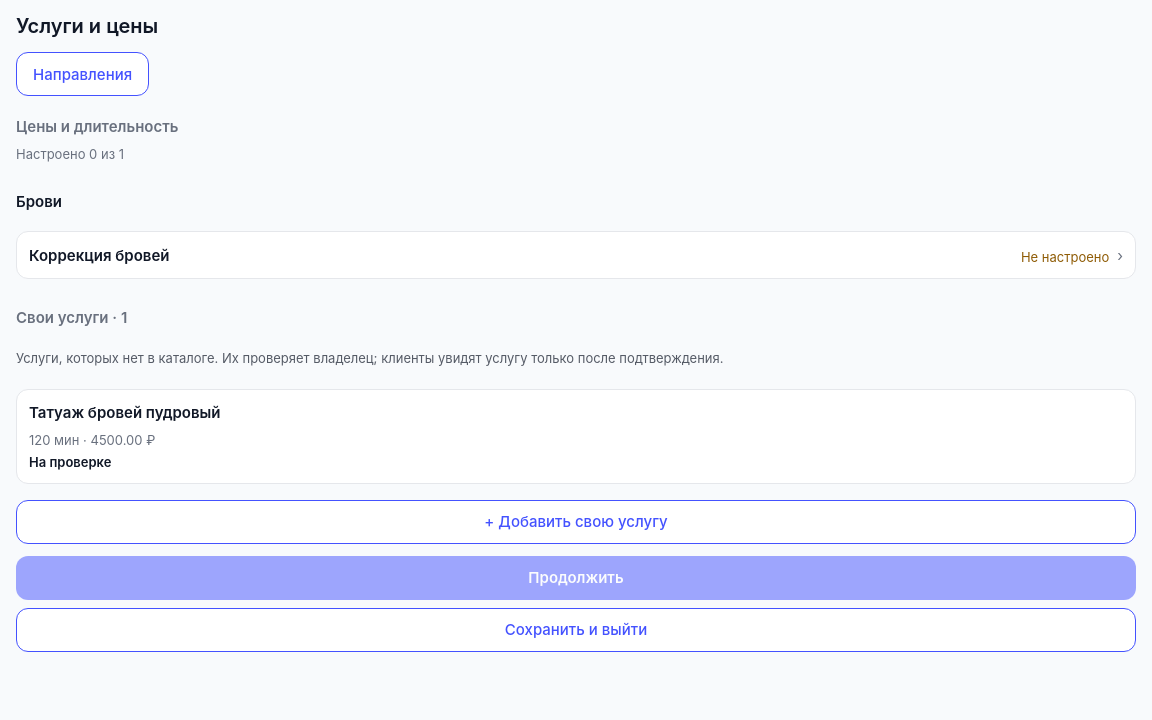
Scenario: MasterServicesScreen — экран 04 «Цены и длительность» (DRF-1810) › S8: price 1500 / minutes 4 is refused before any request
Click the button "Коррекция бровей Не настроено ›" at (99,255), box [16,231,1136,279]
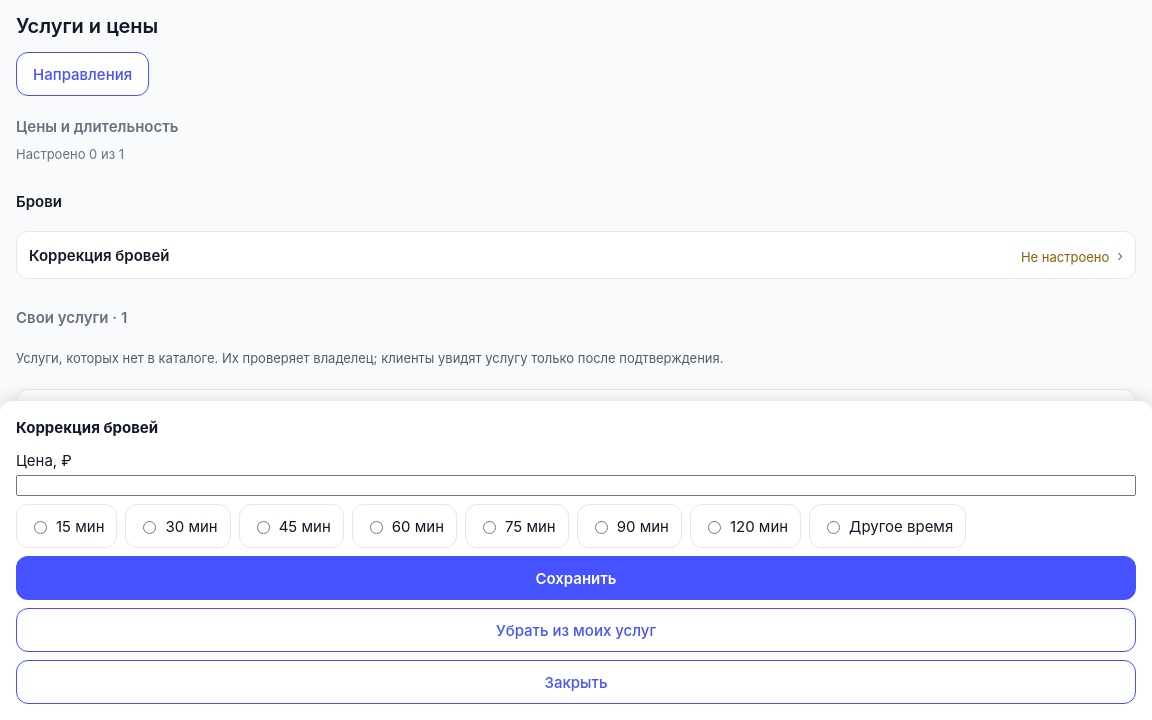
Type "1500" into the field labelled "Цена, ₽" at (576,486), box [16,475,1136,496]
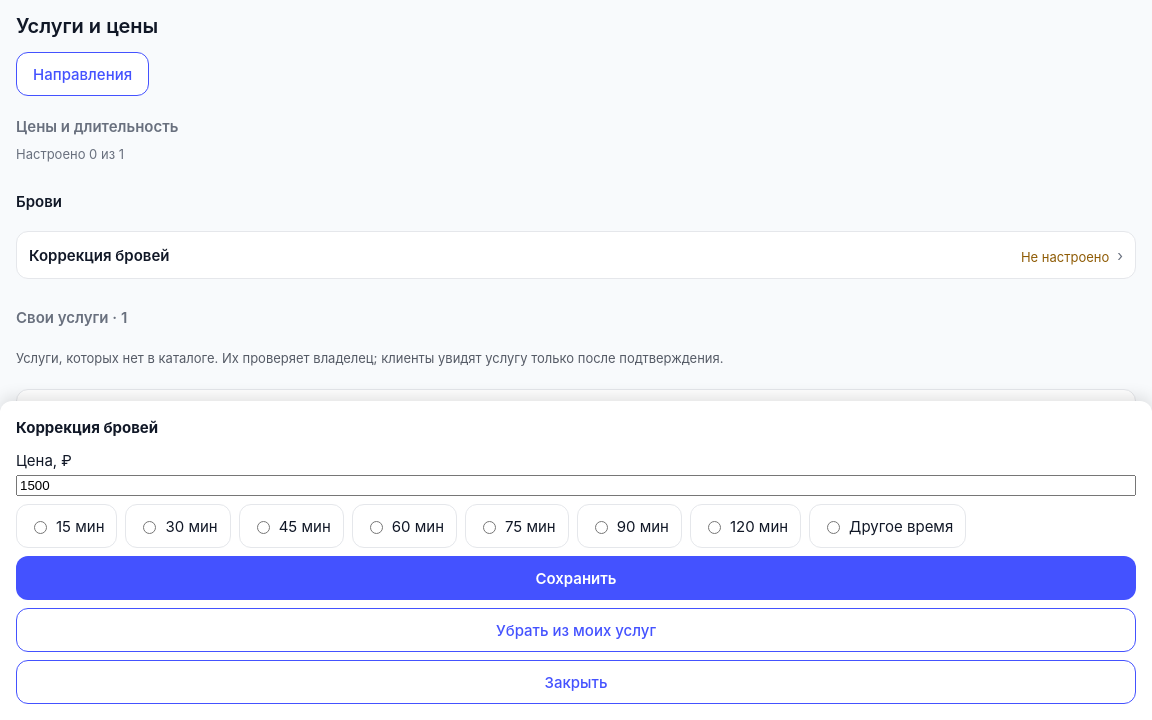
Click the radio button labelled "Другое время" at (834,528), box [827,521,840,534]
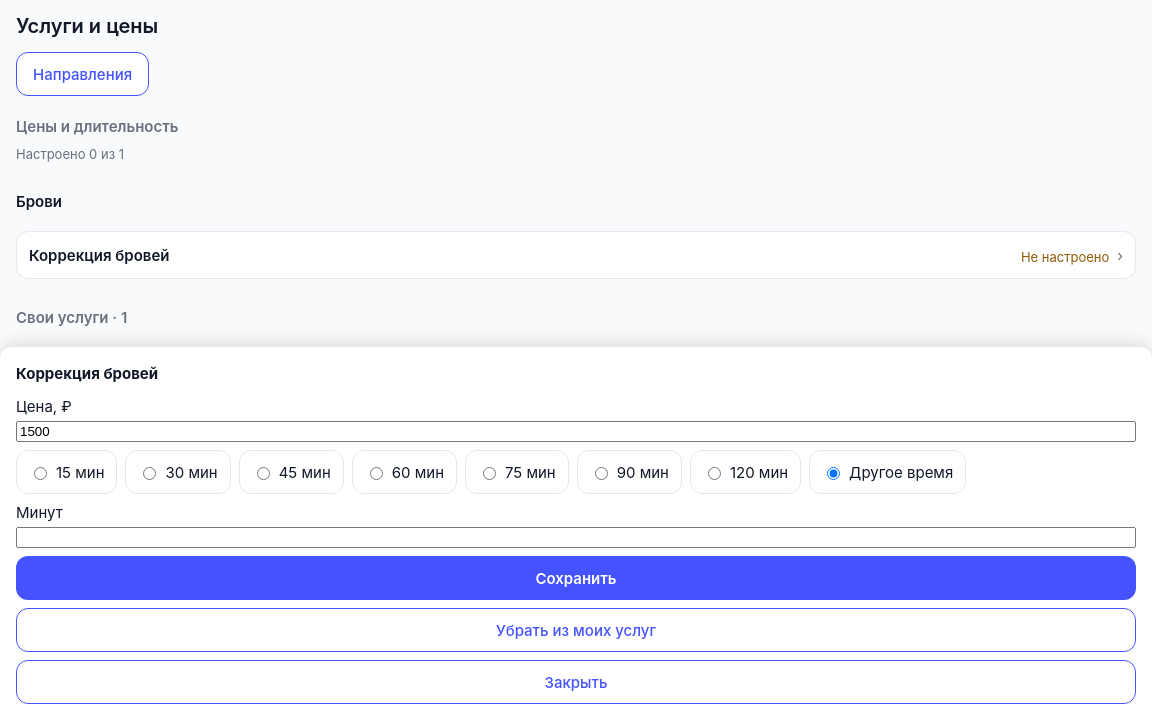
Type "4" into the field labelled "Минут" at (576,538), box [16,527,1136,548]
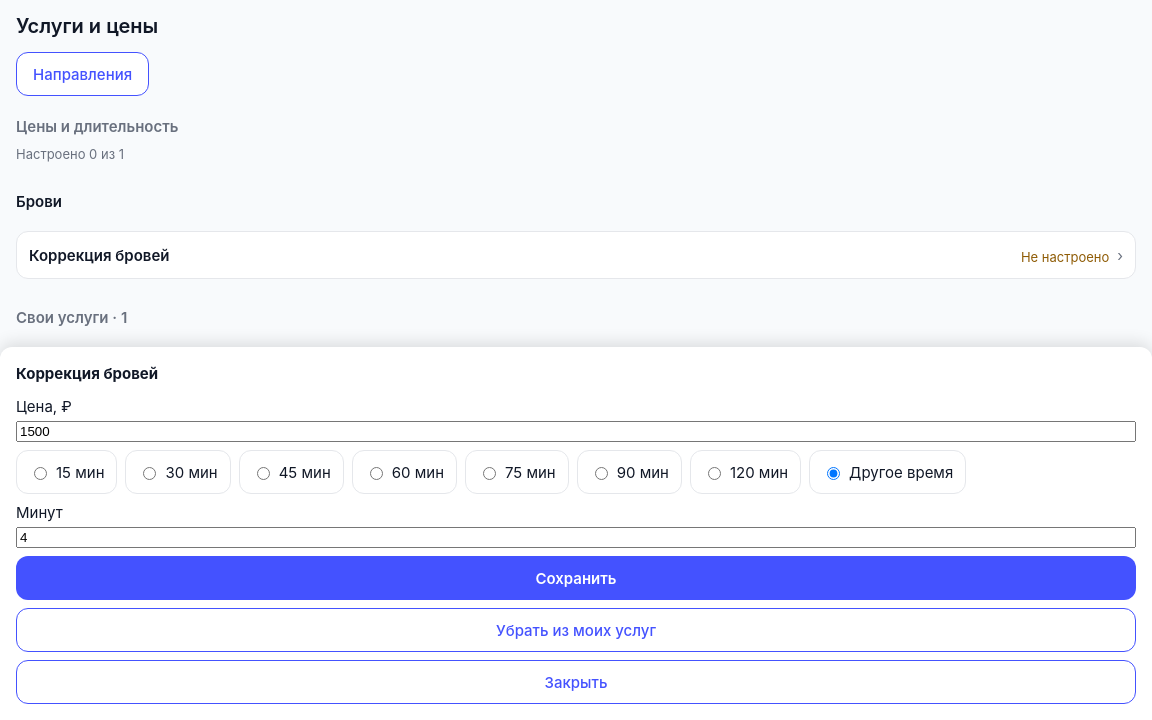
Click the button "Сохранить" at (576,578), box [16,556,1136,600]
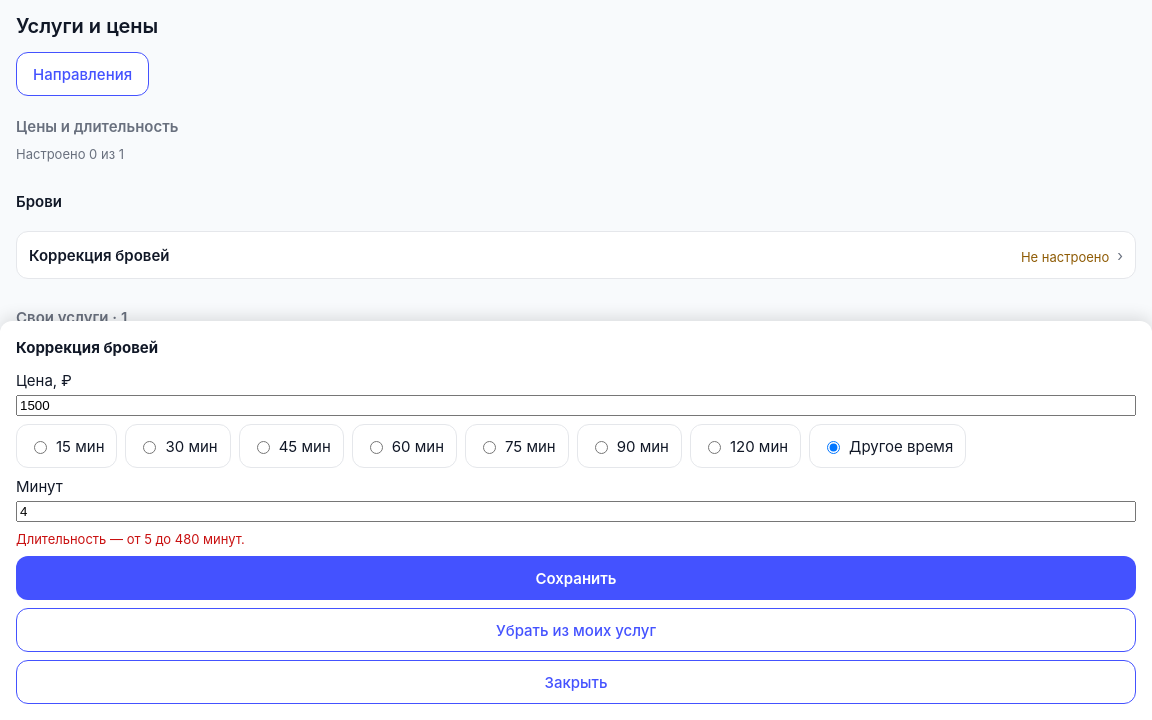
Check: the text "Длительность — от 5 до 480 минут." is shown, box [16,531,245,547]
